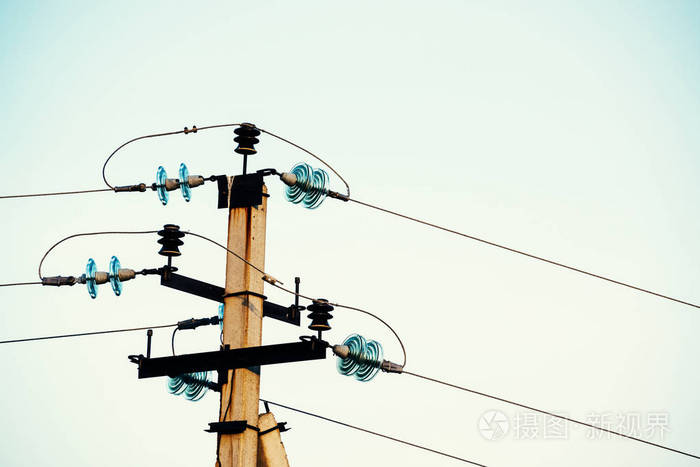insulator: (334, 332, 384, 383), (285, 162, 329, 210), (155, 161, 195, 207), (85, 256, 125, 299), (164, 371, 213, 400)
